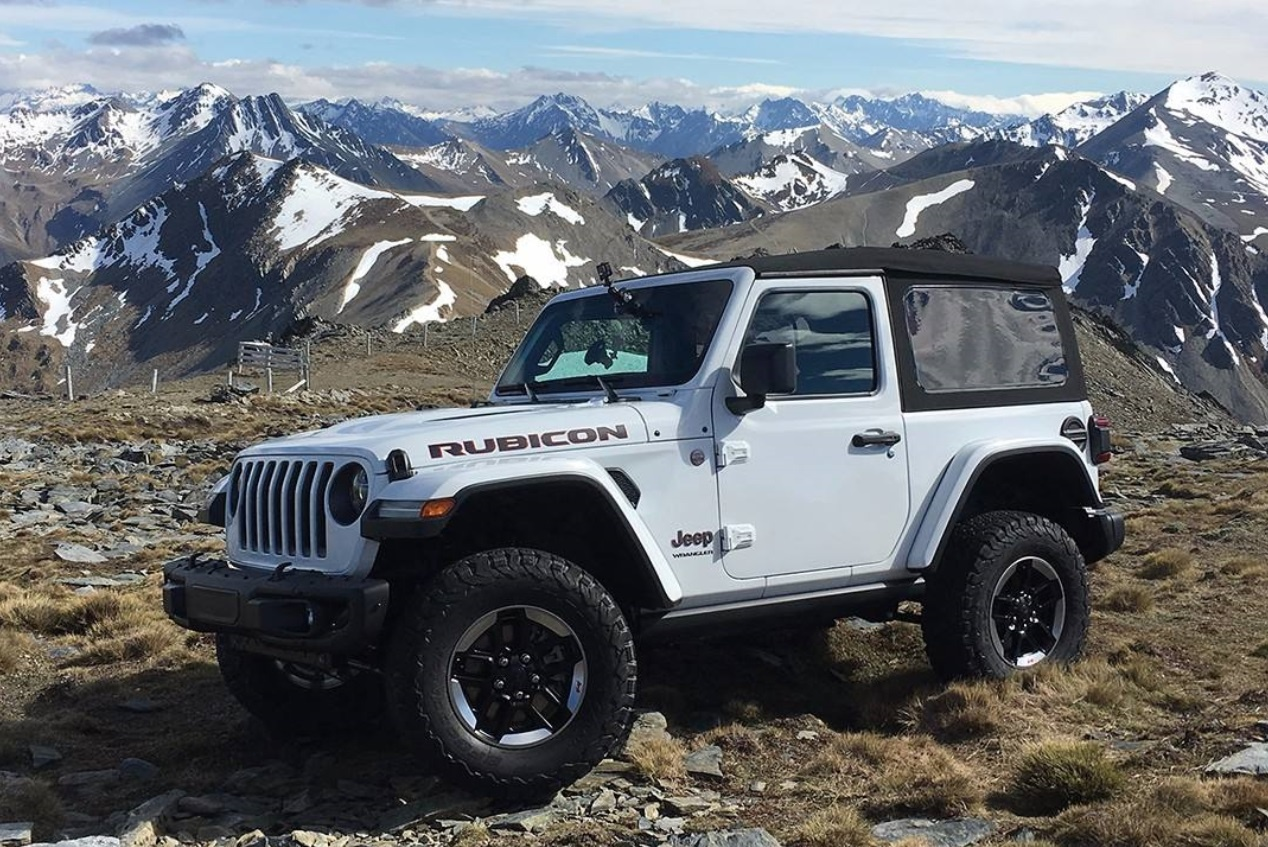jeep: (218, 222, 1124, 770)
